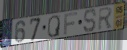6: (14, 20, 26, 44)
7: (29, 17, 41, 42)
F: (63, 11, 78, 36)
Q: (47, 15, 61, 39)
R: (98, 6, 114, 31)
S: (83, 9, 97, 34)
